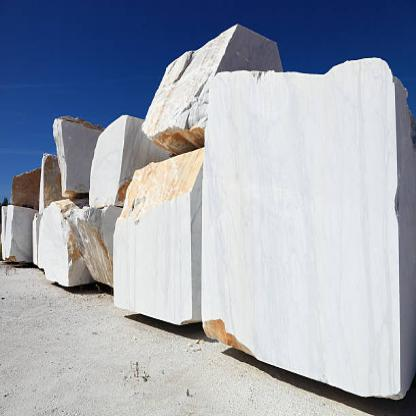Metamorphic_Marble: (200, 64, 415, 415), (111, 160, 195, 316), (142, 21, 212, 141), (35, 192, 85, 300), (90, 114, 148, 207), (52, 113, 96, 200)
